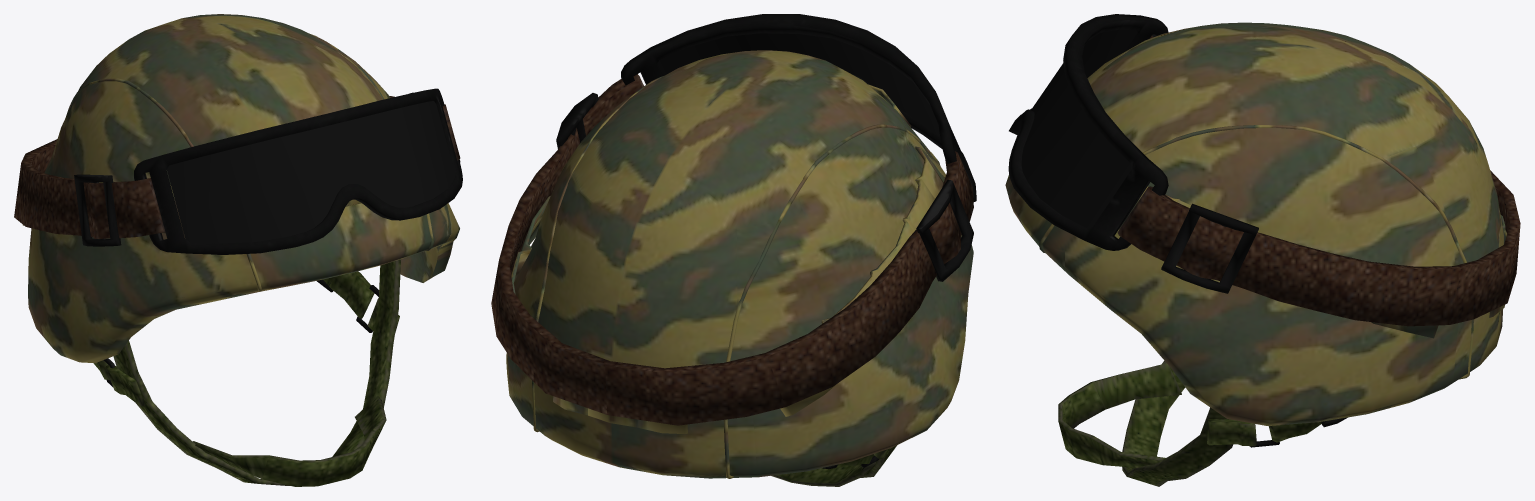
Rendered from W-helm.fbx.
3 views of the same model, side by side, from view 1: azimuth 30°, elevation 25°; view 2: azimuth 150°, elevation 25°; view 3: azimuth 270°, elevation 25° (orthographic). The views are drawn at different scales.
Visible parts, largest first — view 1: Sphere.001, Sphere; view 2: Sphere.001, Sphere; view 3: Sphere.001, Sphere.
Part boxes in pixels (box(x1,y1,x2,y2)): Sphere.001: box(23, 14, 459, 363); Sphere: box(14, 88, 462, 486); Sphere.001: box(506, 50, 973, 478); Sphere: box(491, 14, 976, 486); Sphere.001: box(1005, 22, 1506, 425); Sphere: box(1008, 14, 1520, 486).
Size of the model in its own units: 27.27 by 28.92 by 31.23.
2 materials, 2 textured.
